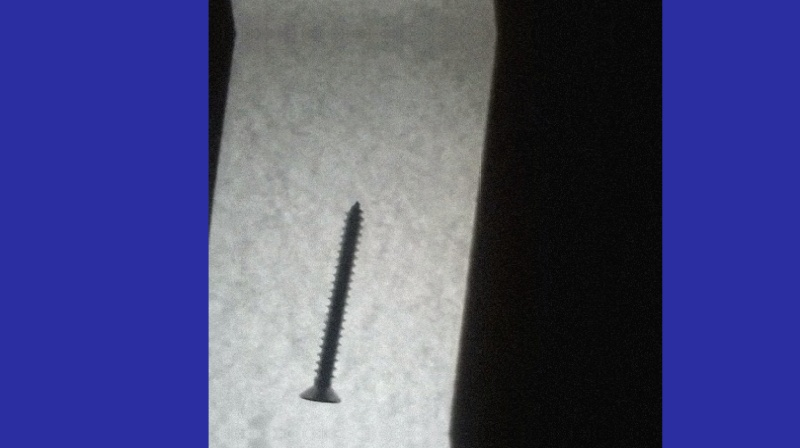S002: (295, 198, 365, 405)
